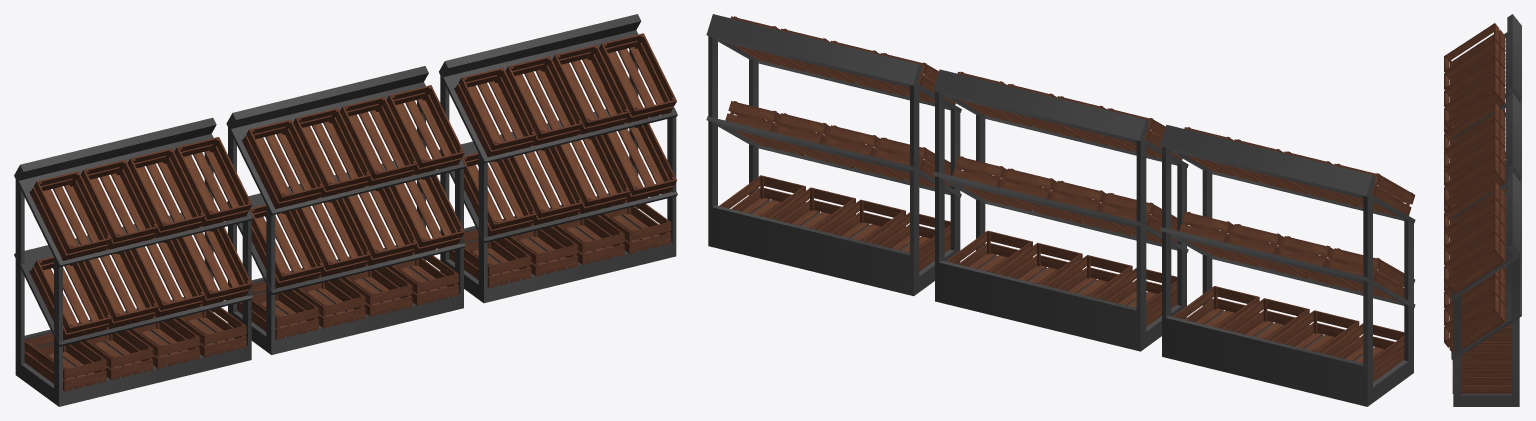
File: model_armazenamento_armazen.fbx
The picture shows the model from 3 angles, left to right: view 1: azimuth 30°, elevation 25°; view 2: azimuth 150°, elevation 25°; view 3: azimuth 270°, elevation 25°; orthographic projection. The views are drawn at different scales.
Parts seen in each view (by area): view 1: Armazenamento; view 2: Armazenamento; view 3: Armazenamento.
Boxes of the visible parts, x1,y1,x2,y2 form: Armazenamento: (14,14,677,406); Armazenamento: (706,14,1415,406); Armazenamento: (1444,14,1521,406).
Size of the model in its own units: 11.05 by 3.66 by 1.58.
Materials: 2 (2 with a texture image).
